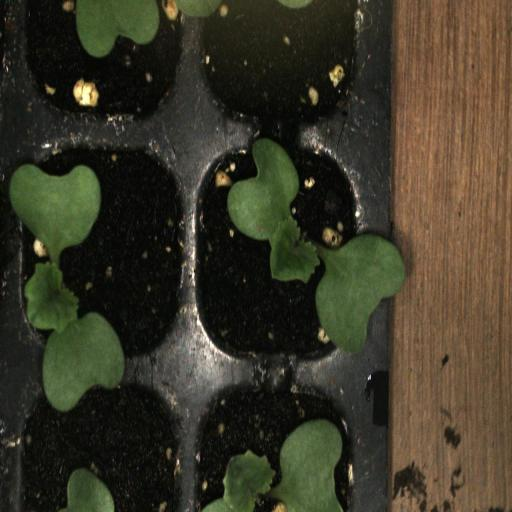Folha: (75, 0, 160, 58), (62, 468, 115, 512)
Germinacao: (190, 128, 375, 369), (12, 126, 188, 370)
